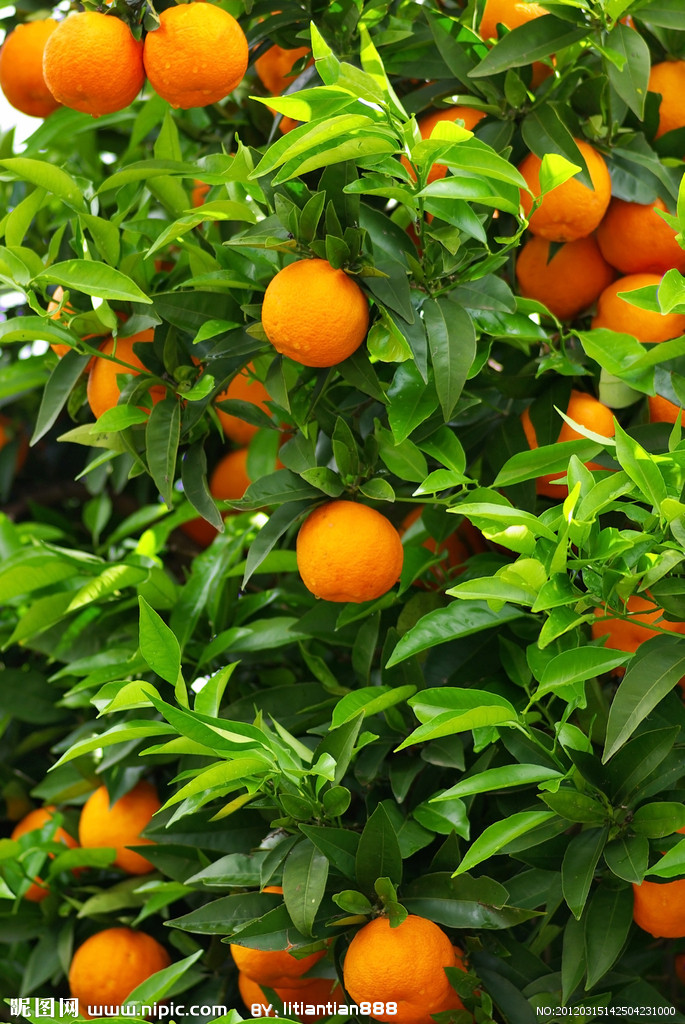orange: (292, 497, 400, 609), (341, 911, 454, 1015), (263, 258, 366, 369), (73, 773, 176, 883), (518, 385, 618, 496), (39, 10, 140, 119), (139, 4, 247, 105), (86, 330, 191, 432), (515, 140, 612, 244), (446, 1, 563, 86), (584, 577, 684, 675), (201, 350, 302, 441), (68, 927, 164, 1020), (244, 3, 335, 96), (1, 11, 78, 120), (230, 883, 316, 978), (241, 925, 327, 1020), (200, 443, 296, 524), (518, 225, 607, 312), (595, 191, 684, 278), (594, 267, 683, 354), (6, 806, 81, 906), (625, 59, 685, 143), (631, 861, 685, 939)
